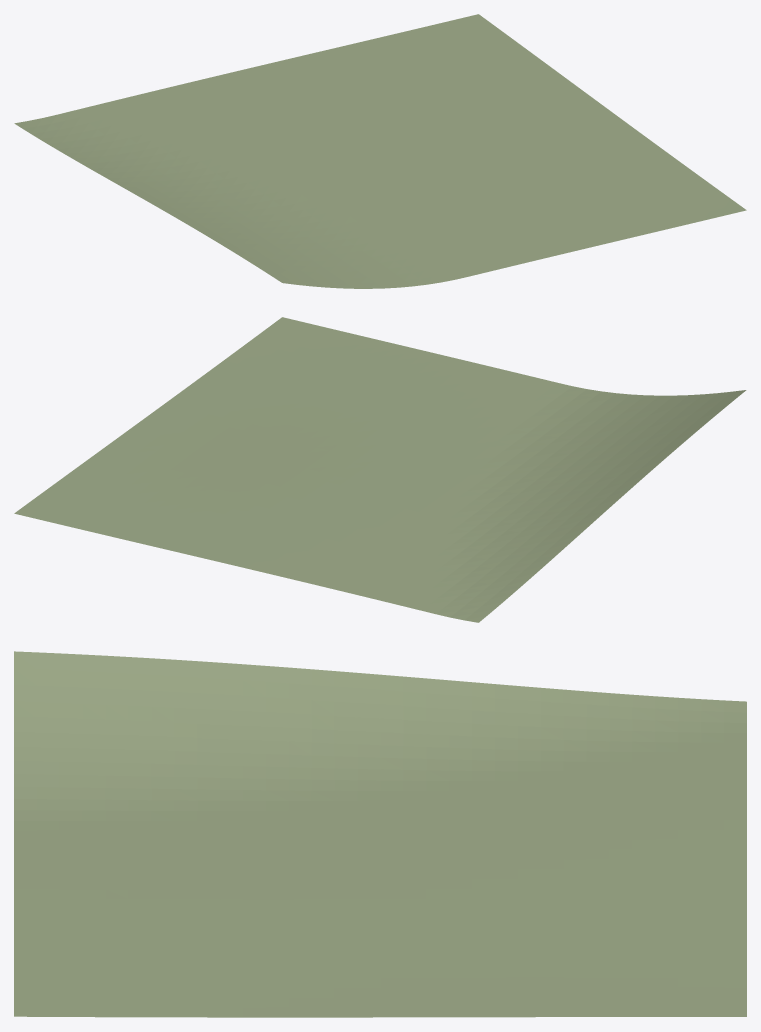
Rendered from desert-29-19.glb.
3 views of the same model, one above another, from view 1: azimuth 30°, elevation 25°; view 2: azimuth 150°, elevation 25°; view 3: azimuth 270°, elevation 25° (orthographic). The views are drawn at different scales.
Parts seen in each view (by area): view 1: desert-29-19; view 2: desert-29-19; view 3: desert-29-19.
Boxes of the visible parts, x1=… form: desert-29-19: x1=14, y1=14, x2=746, y2=288; desert-29-19: x1=14, y1=317, x2=746, y2=622; desert-29-19: x1=14, y1=651, x2=746, y2=1017.
Size of the model in its own units: 512 by 43.43 by 512.
